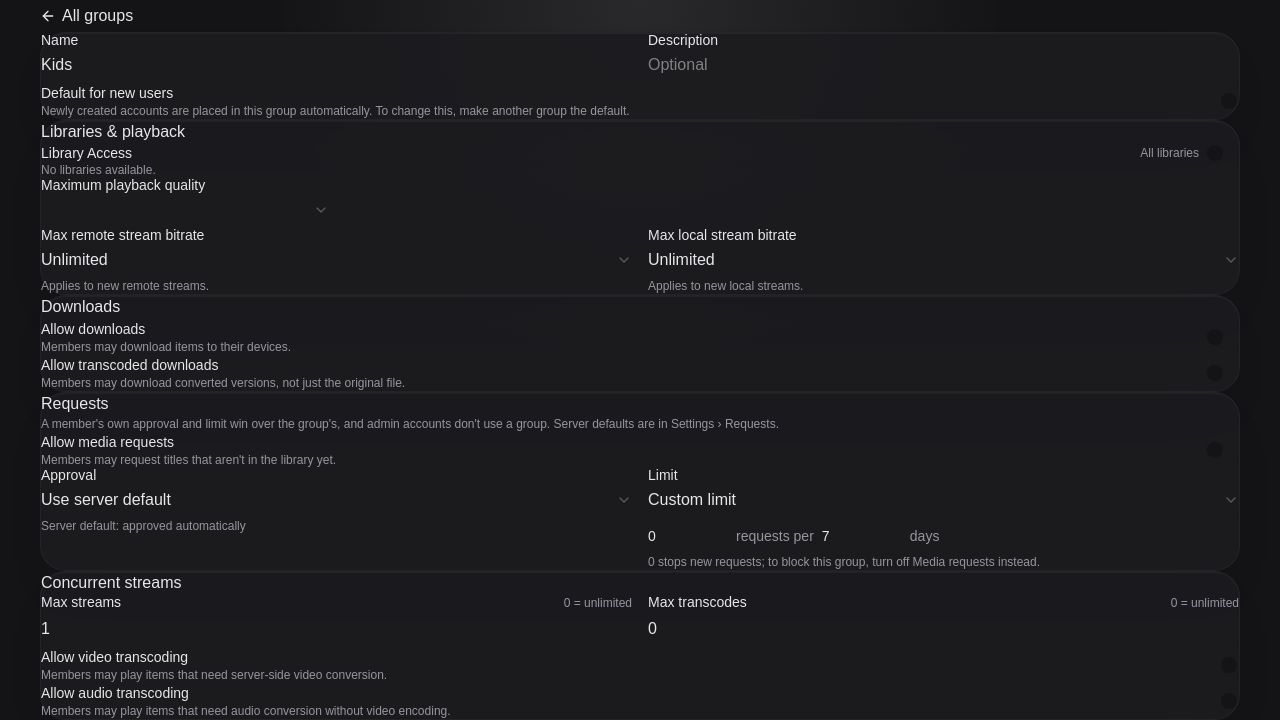
Scenario: AdminAccessGroups › saves a group's limit of zero and says it only stops new requests
This screenshot has width=1280, height=720.
Expected: the 1st number field named "Requests allowed" holds "0", [648,518,728,554]
Expected: the text "0 stops new requests; to block this group, turn off Media requests instead." is shown, [648,555,1040,569]
Click the dropdown named "Approval" at (106, 499), box [41,482,632,518]
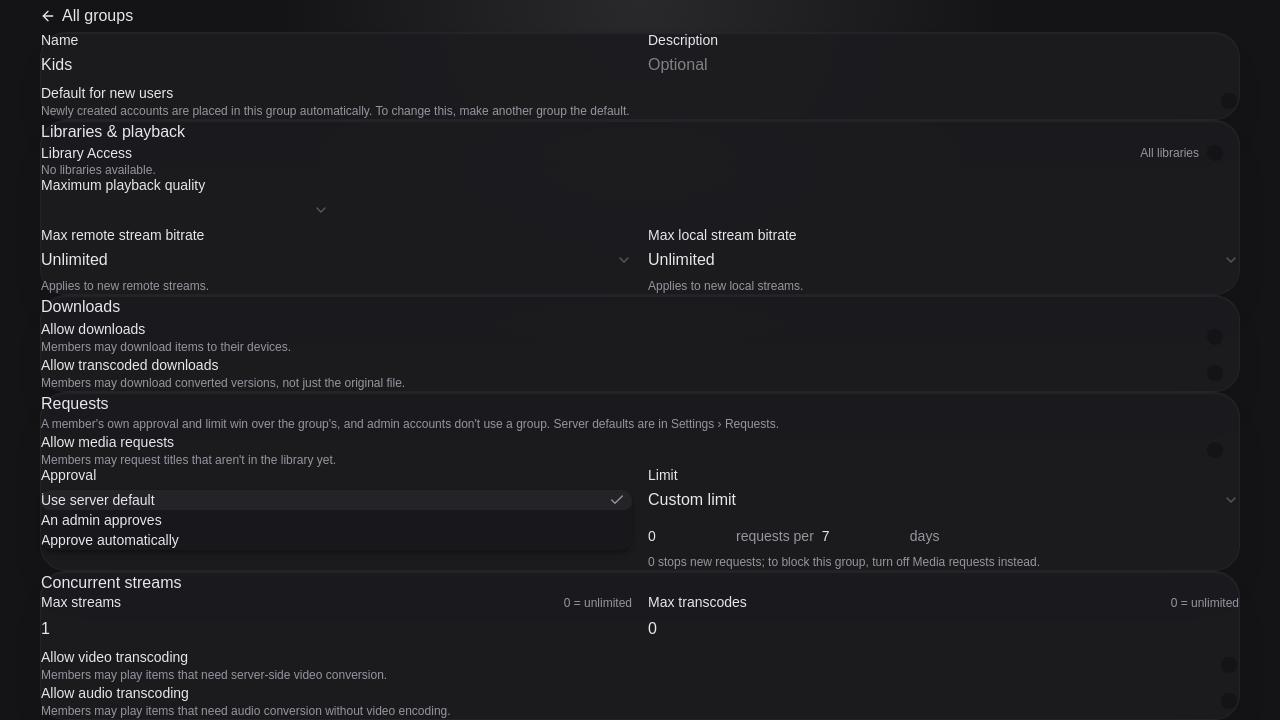
Click the option "Approve automatically" at (110, 540), box [41,532,179,548]
(page scrolled)
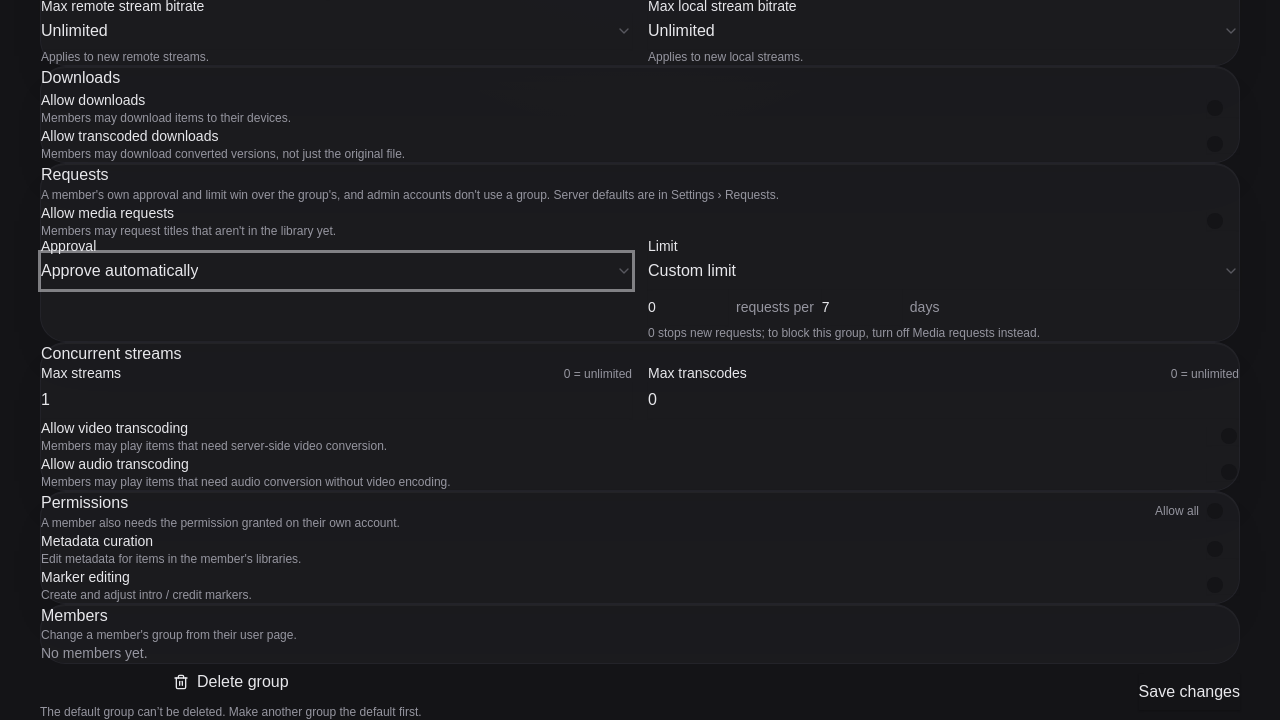
Click the button "Save changes" at (1189, 692), box [1139,674,1240,710]
(page scrolled)
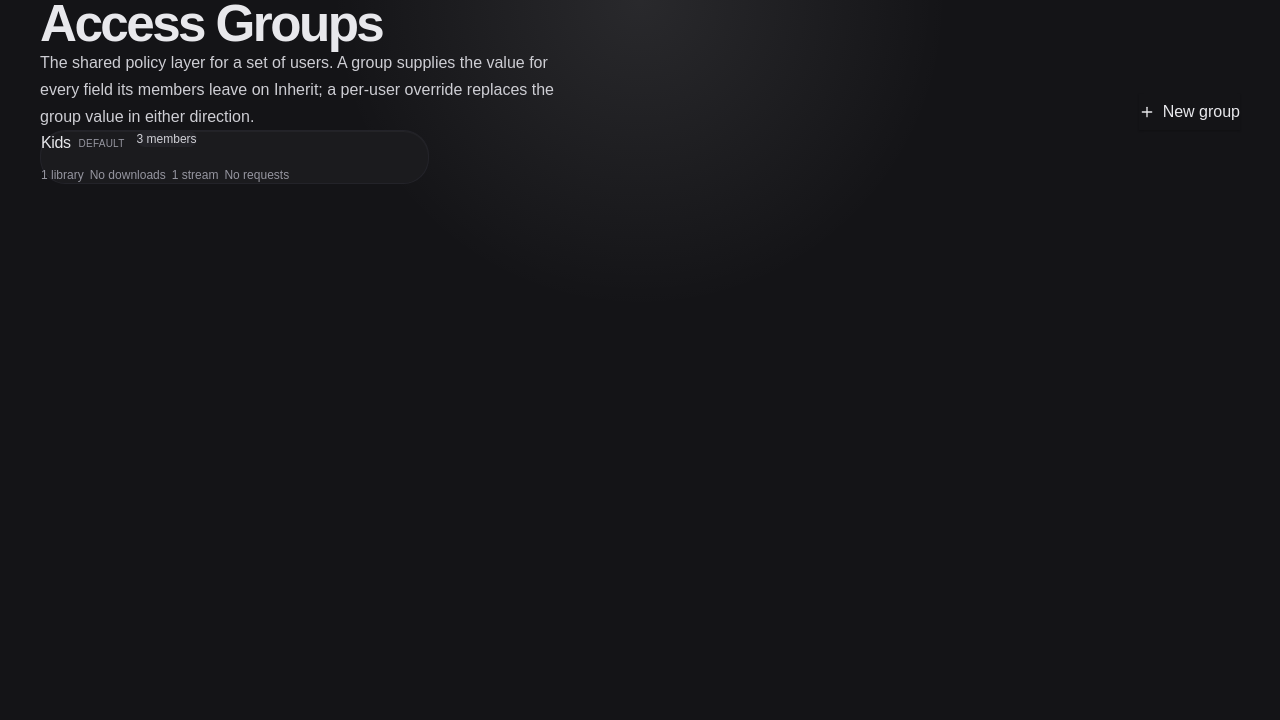
Expected: the heading "Access Groups" is shown, [40,0,382,52]
